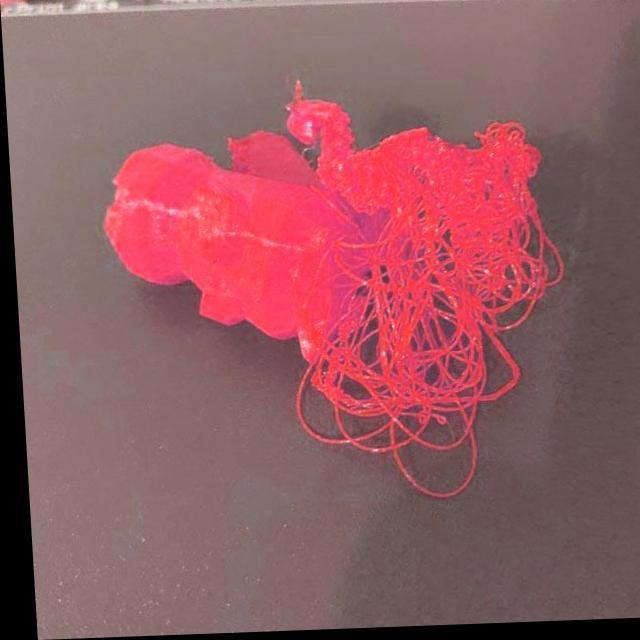spaghetti: (274, 73, 572, 506)
